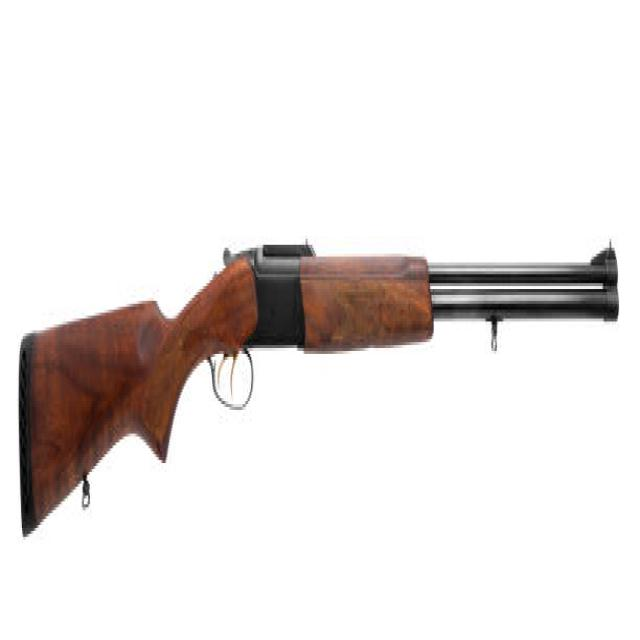rifle: (13, 175, 627, 559)
